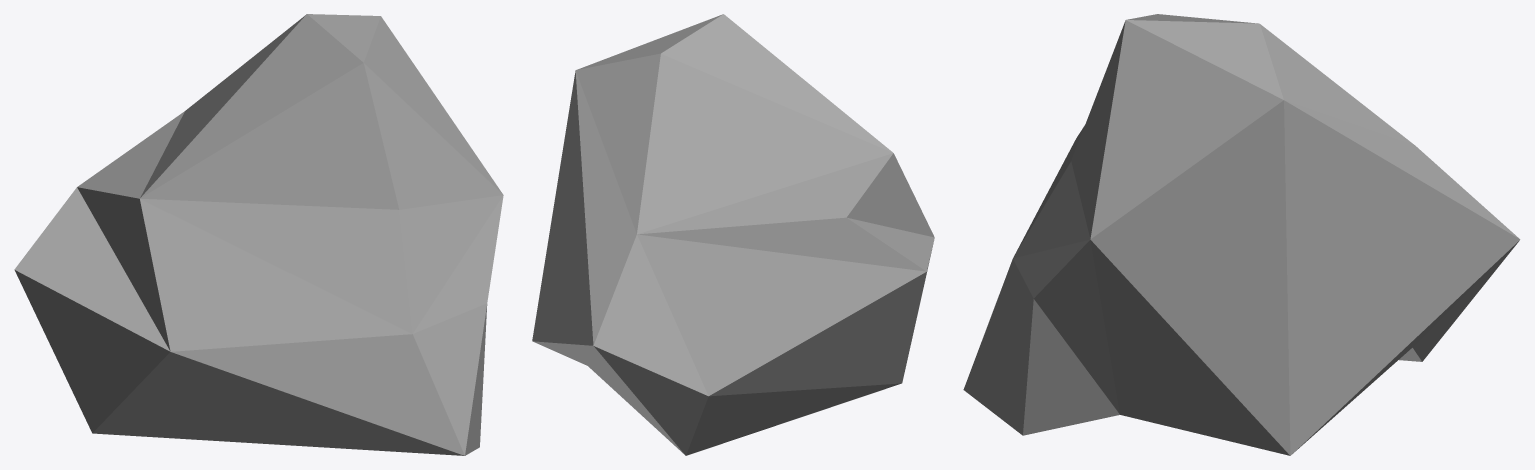
File: rock1.fbx
3 views of the same model, side by side, from view 1: azimuth 30°, elevation 25°; view 2: azimuth 150°, elevation 25°; view 3: azimuth 270°, elevation 25° (orthographic). The views are drawn at different scales.
Visible parts, largest first — view 1: rock1; view 2: rock1; view 3: rock1.
Part boxes in pixels (x1,y1,x2,y2): rock1: (14,14,503,455); rock1: (532,14,934,455); rock1: (963,14,1520,455).
Bounding box in the file's own units: 58.65 × 48.97 × 62.98.
